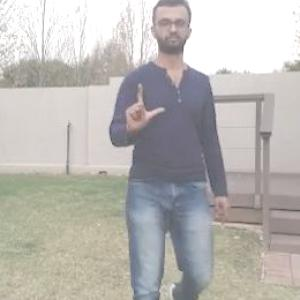land_hand: (120, 76, 168, 132)
